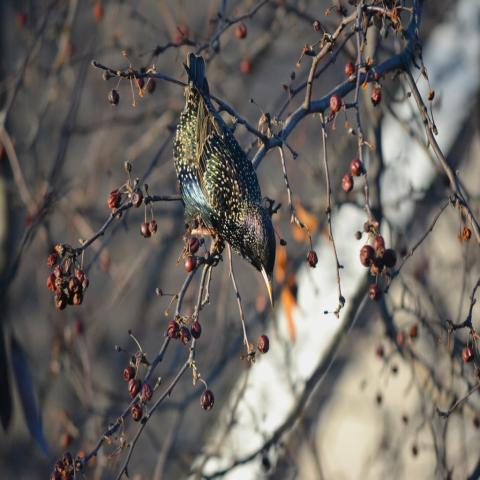bird: (170, 50, 286, 299)
